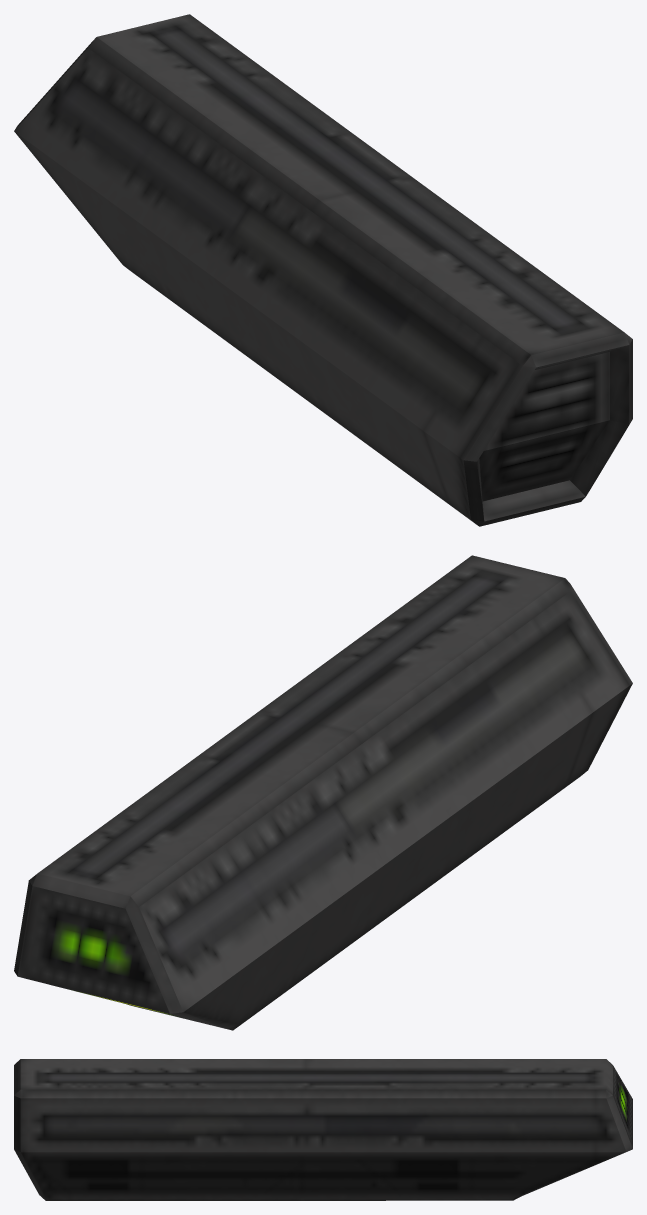
The model's file is BFP_SmallEngine01_Right.FBX.
The picture shows the model from 3 angles, top to bottom: view 1: azimuth 30°, elevation 25°; view 2: azimuth 150°, elevation 25°; view 3: azimuth 270°, elevation 25°; orthographic projection. The views are drawn at different scales.
Visible parts, largest first — view 1: BFP_SmallEngine01_Right; view 2: BFP_SmallEngine01_Right; view 3: BFP_SmallEngine01_Right.
Boxes of the visible parts, box(x1,y1,x2,y2) form: BFP_SmallEngine01_Right: box(14, 14, 632, 526); BFP_SmallEngine01_Right: box(14, 555, 632, 1030); BFP_SmallEngine01_Right: box(14, 1059, 632, 1200).
Size of the model in its own units: 44.29 by 44.29 by 208.
Materials: 1 (1 with a texture image).
